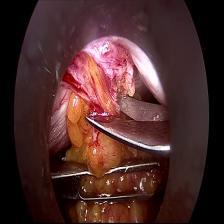Grasper: (50, 161, 164, 203)
Scissors: (86, 92, 170, 158)
